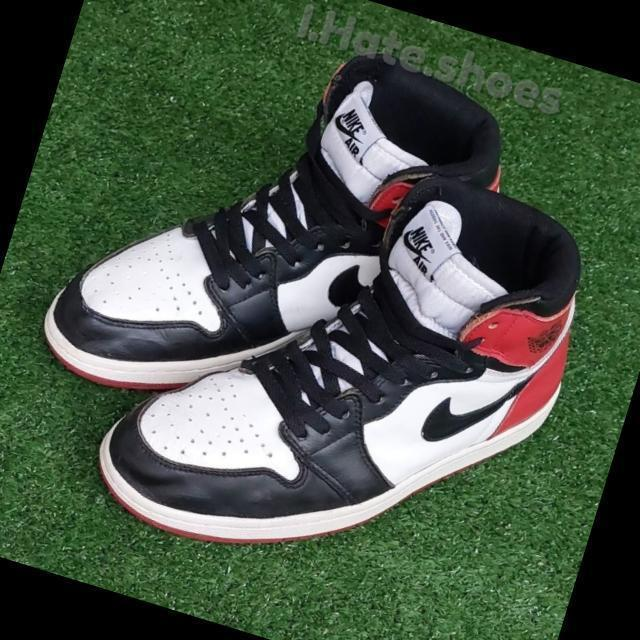nike fake jordan 1: (77, 99, 612, 634), (27, 0, 523, 481)
